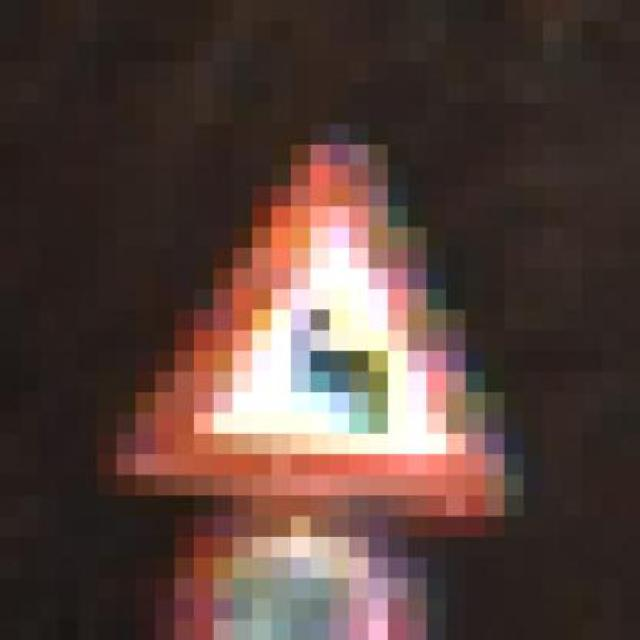Left Zig Zag Traffic: (77, 145, 543, 537)
